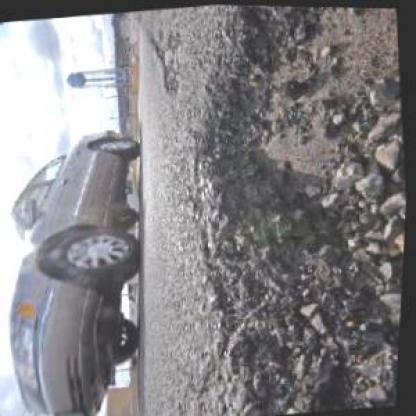pothole: (158, 56, 182, 97)
